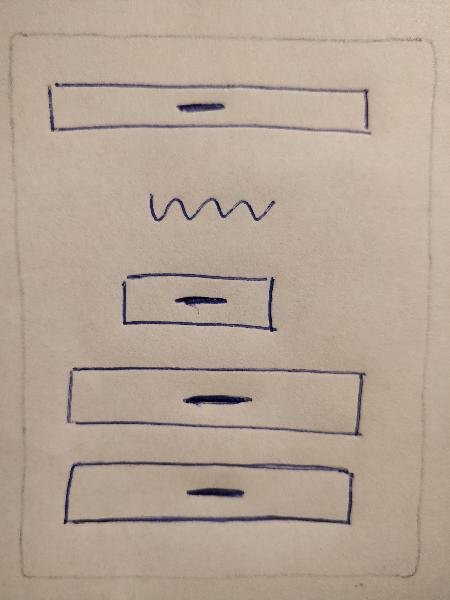button: (56, 357, 375, 444), (41, 74, 381, 154), (58, 455, 363, 535), (112, 266, 285, 345)
text: (141, 178, 278, 240)
